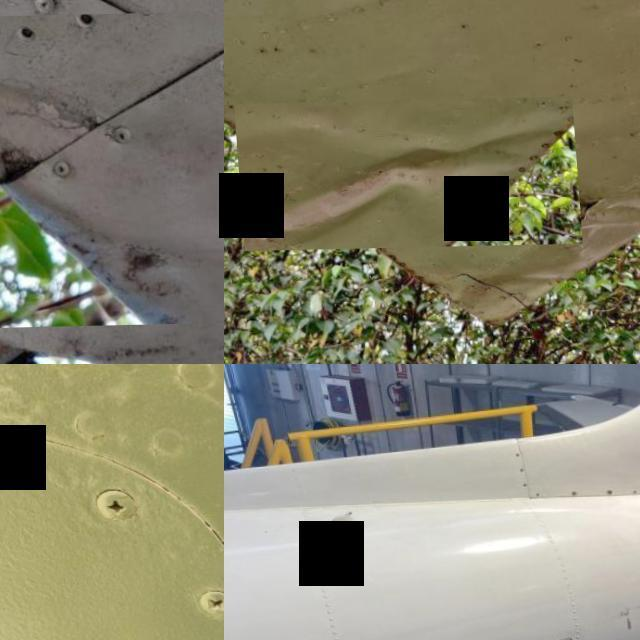Crack: (536, 200, 586, 220)
Dent: (0, 8, 224, 329), (230, 99, 576, 252), (426, 258, 570, 328), (591, 151, 640, 236)
Missing_Fastener: (565, 492, 573, 498), (602, 491, 608, 497), (626, 491, 633, 496), (517, 485, 523, 490), (530, 494, 536, 498), (512, 455, 516, 459)
